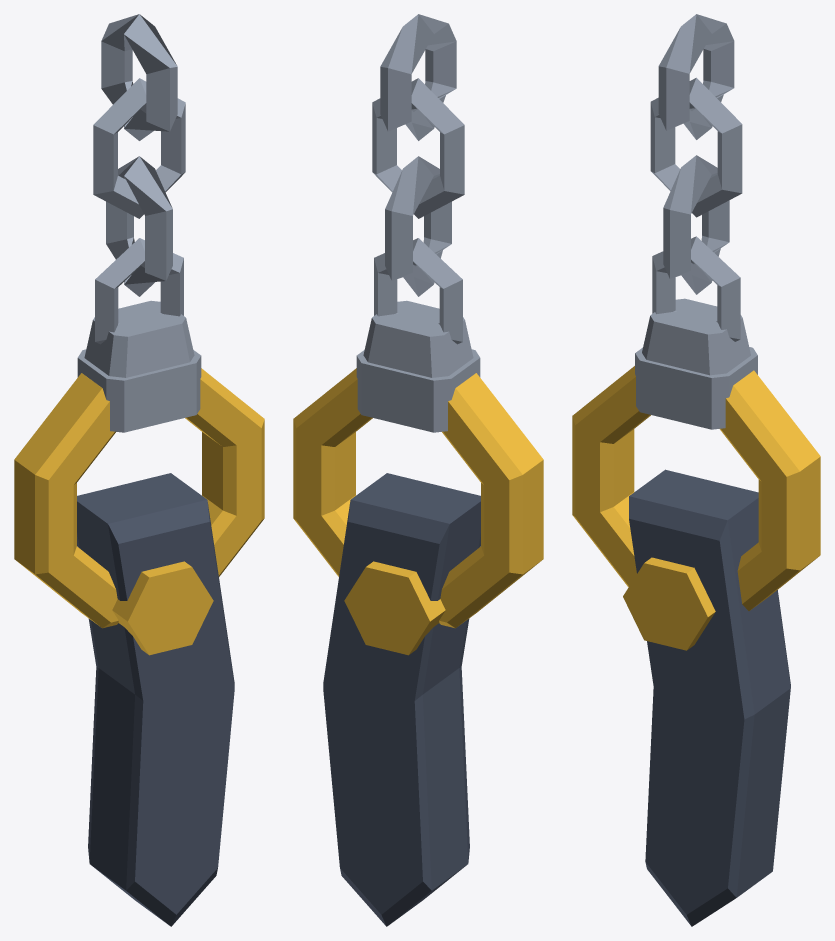
The model's file is FragPin.fbx.
3 renders of one model, left to right at view 1: azimuth 30°, elevation 25°; view 2: azimuth 150°, elevation 25°; view 3: azimuth 330°, elevation 25°, orthographic.
Parts seen in each view (by area): view 1: Body_Pin_Steel, Body_Pin_Brass, Chain, Body_Chain_Metal; view 2: Body_Pin_Steel, Body_Pin_Brass, Chain, Body_Chain_Metal; view 3: Body_Pin_Steel, Body_Pin_Brass, Chain, Body_Chain_Metal.
Boxes of the visible parts, <box> form: Body_Pin_Steel: <box>77,473,234,926</box>; Body_Pin_Brass: <box>14,368,264,655</box>; Chain: <box>93,14,185,296</box>; Body_Chain_Metal: <box>77,238,201,432</box>; Body_Pin_Steel: <box>323,473,480,926</box>; Body_Pin_Brass: <box>293,368,543,655</box>; Chain: <box>372,14,464,296</box>; Body_Chain_Metal: <box>356,238,480,432</box>; Body_Pin_Steel: <box>629,469,790,926</box>; Body_Pin_Brass: <box>572,366,820,650</box>; Chain: <box>650,14,742,294</box>; Body_Chain_Metal: <box>635,236,757,429</box>.
Size of the model in its own units: 0.1016 by 0.3819 by 0.048.
